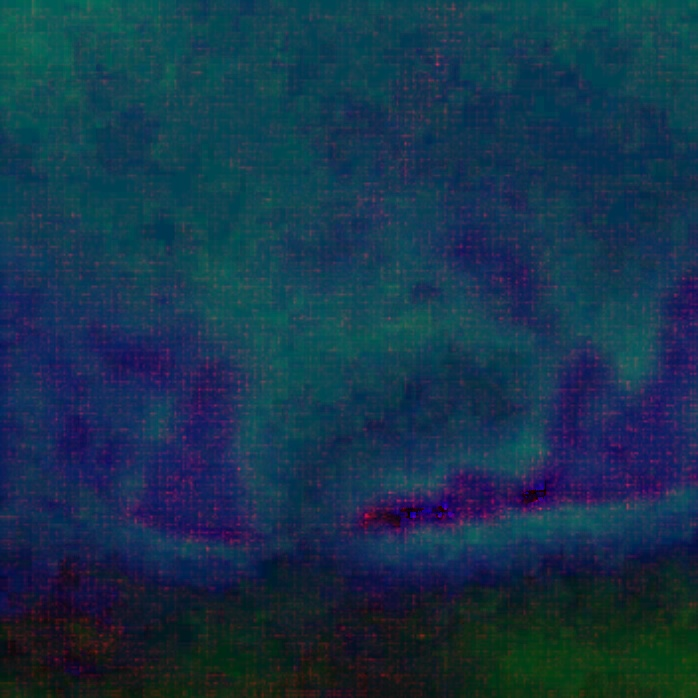rip_current: (165, 206, 471, 565)
